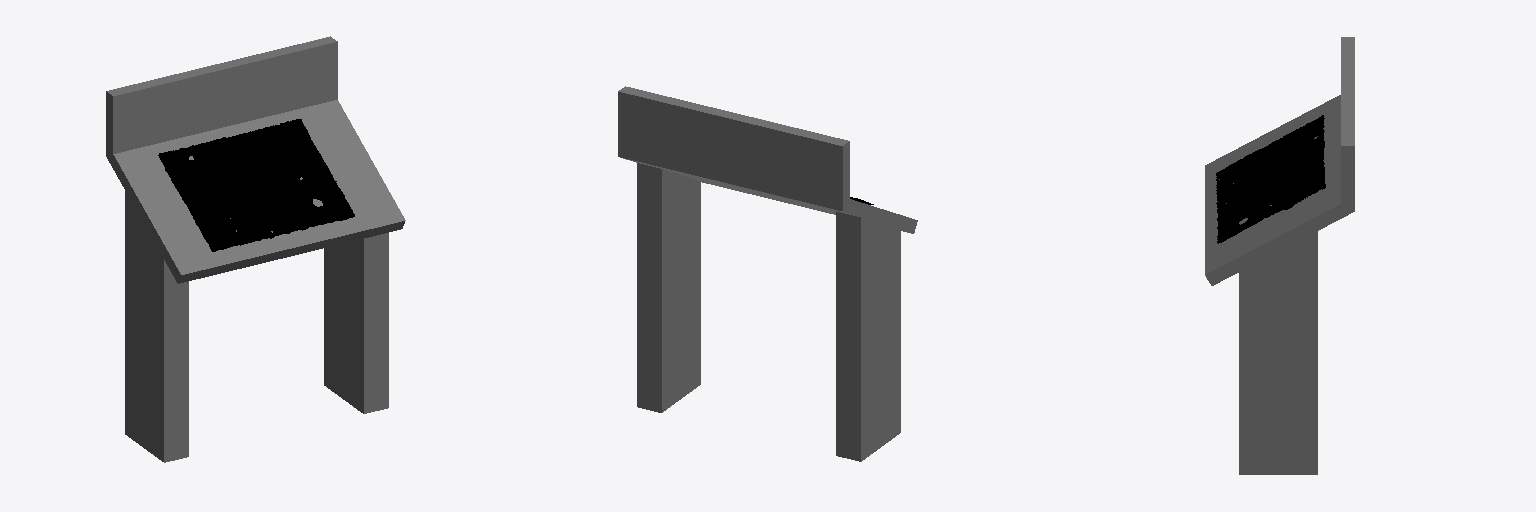
Rendered from VoiceGuide03_rere.obj.
The picture shows the model from 3 angles: view 1: azimuth 30°, elevation 25°; view 2: azimuth 150°, elevation 25°; view 3: azimuth 270°, elevation 25°; orthographic projection.
Visible parts, largest first — view 1: pCube2, VoiceGuide03_reduced:mesh, pCube3, pCube1, pCube4; view 2: pCube3, pCube1, pCube4, pCube2; view 3: pCube4, pCube2, VoiceGuide03_reduced:mesh, pCube3.
Boxes of the visible parts, <box> form: pCube2: <box>106,100,405,283</box>; VoiceGuide03_reduced:mesh: <box>158,119,354,251</box>; pCube3: <box>106,36,337,155</box>; pCube1: <box>125,191,188,462</box>; pCube4: <box>324,233,388,413</box>; pCube3: <box>618,86,849,210</box>; pCube1: <box>836,211,900,461</box>; pCube4: <box>637,163,700,412</box>; pCube2: <box>620,157,917,233</box>; pCube4: <box>1239,231,1317,474</box>; pCube2: <box>1205,95,1354,285</box>; VoiceGuide03_reduced:mesh: <box>1216,115,1325,243</box>; pCube3: <box>1341,37,1354,210</box>.
Size of the model in its own units: 0.9002 by 1.26 by 0.523.